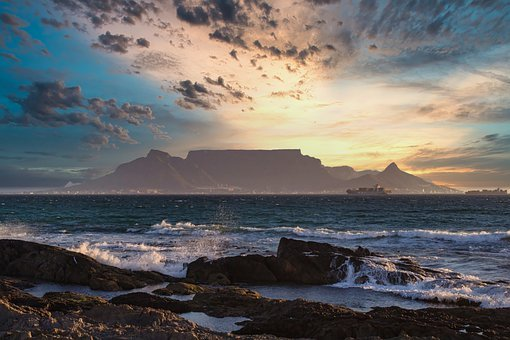mountain: (110, 148, 414, 192)
sea: (9, 192, 510, 334)
sky: (8, 1, 507, 179)
